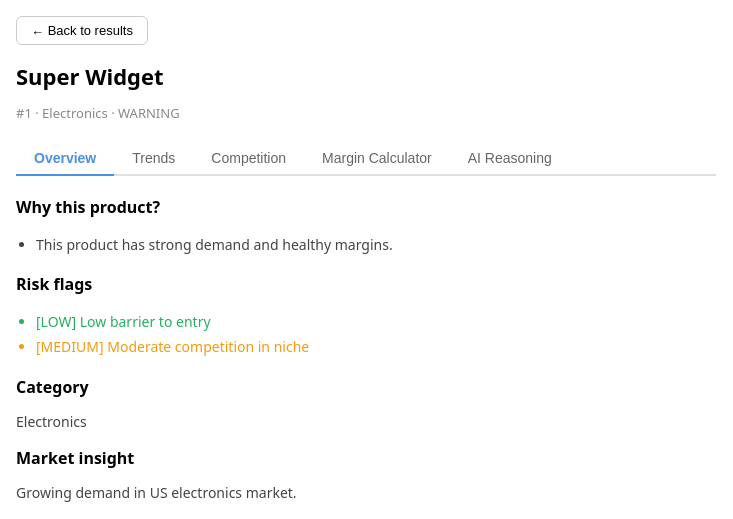
it: AC 3 — Trends panel › shows trend bars when Trends tab clicked
Click the tab "Trends" at (154,159), box [114, 142, 193, 176]
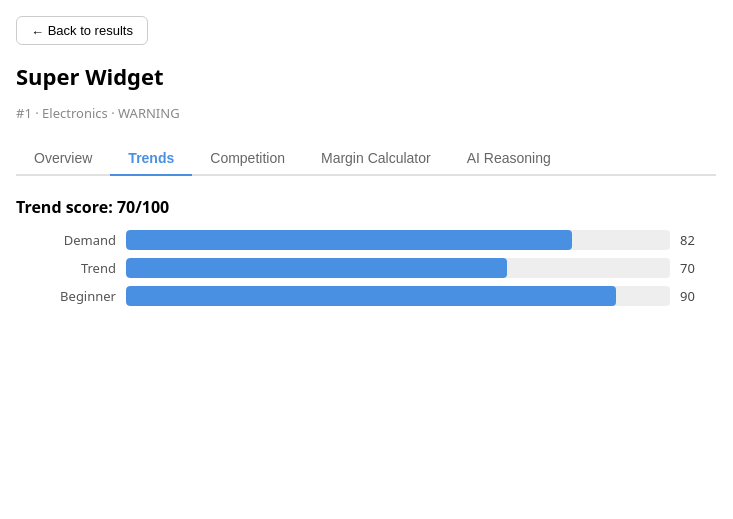
Expected: the text "Demand" is shown, [64, 231, 116, 249]
Expected: the heading "Trend score: 70/100" is shown, [16, 196, 169, 218]
Expected: the text "Beginner" is shown, [60, 287, 116, 305]
